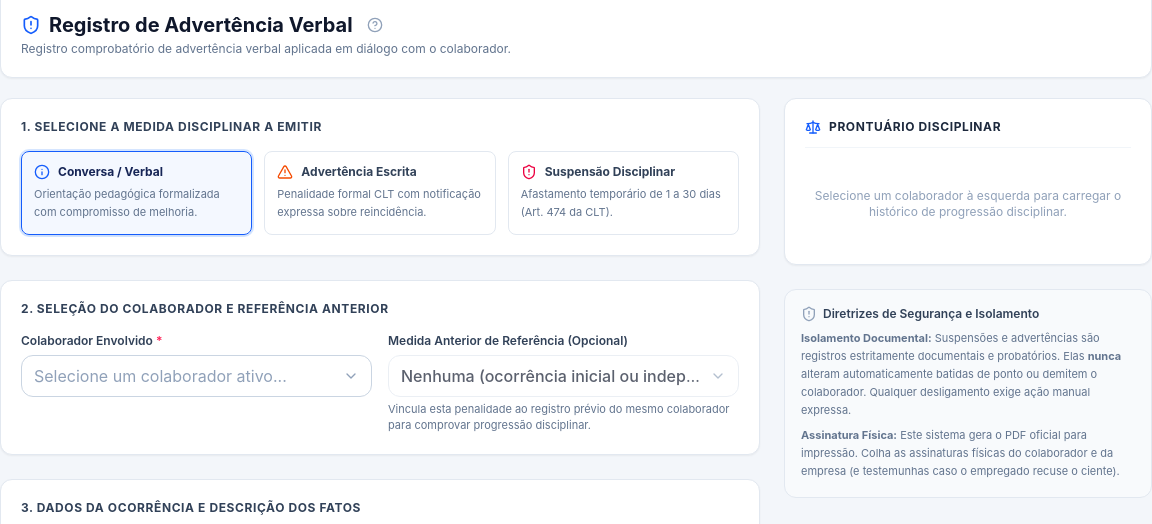
Scenario: DisciplineDocumentPage › switches between discipline types and renders specific form fields
Check: the heading "Registro de Advertência Verbal" is shown, box [21, 11, 353, 39]
Switch to WRITTEN
Click the text "Advertência Escrita" at (359, 172), box [301, 164, 417, 180]
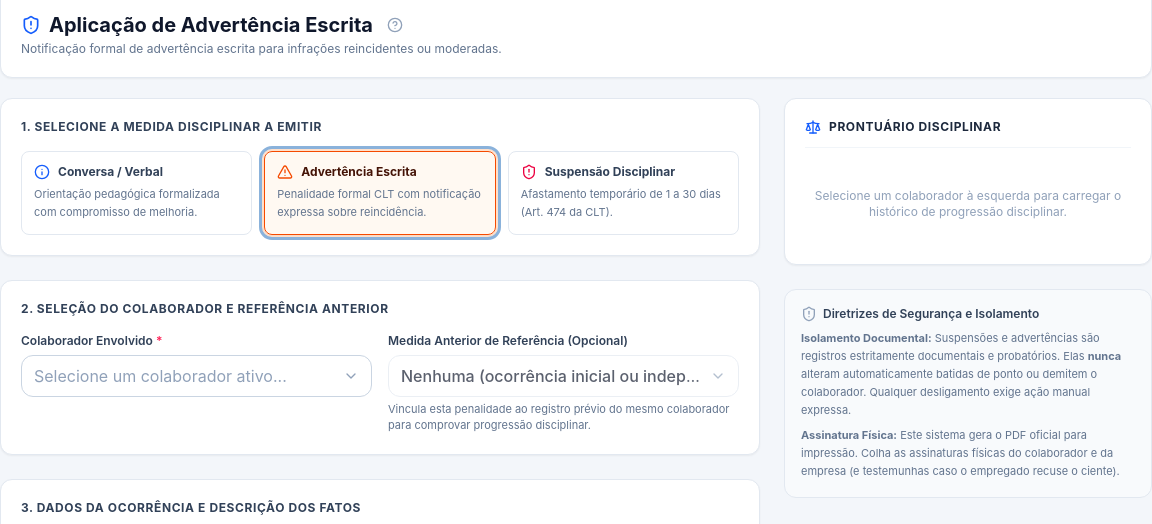
Switch to SUSPENSION
Click the text "Suspensão Disciplinar" at (610, 172), box [545, 164, 675, 180]
(page scrolled)
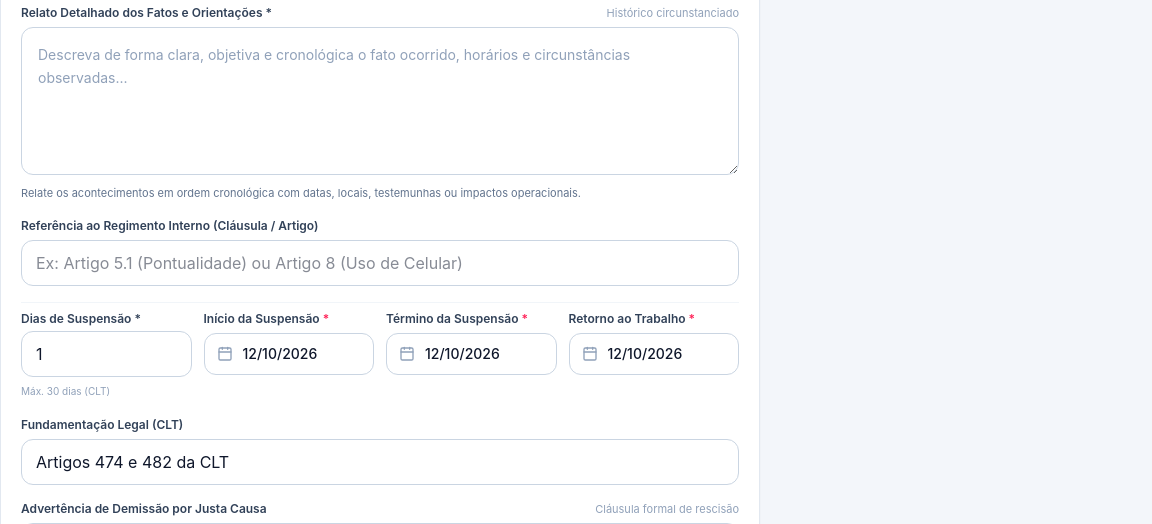
Check: the text "Dias de Suspensão *" is shown, box [21, 310, 141, 326]
Check: the date field "Retorno ao Trabalho *" is shown, box [568, 310, 695, 326]
